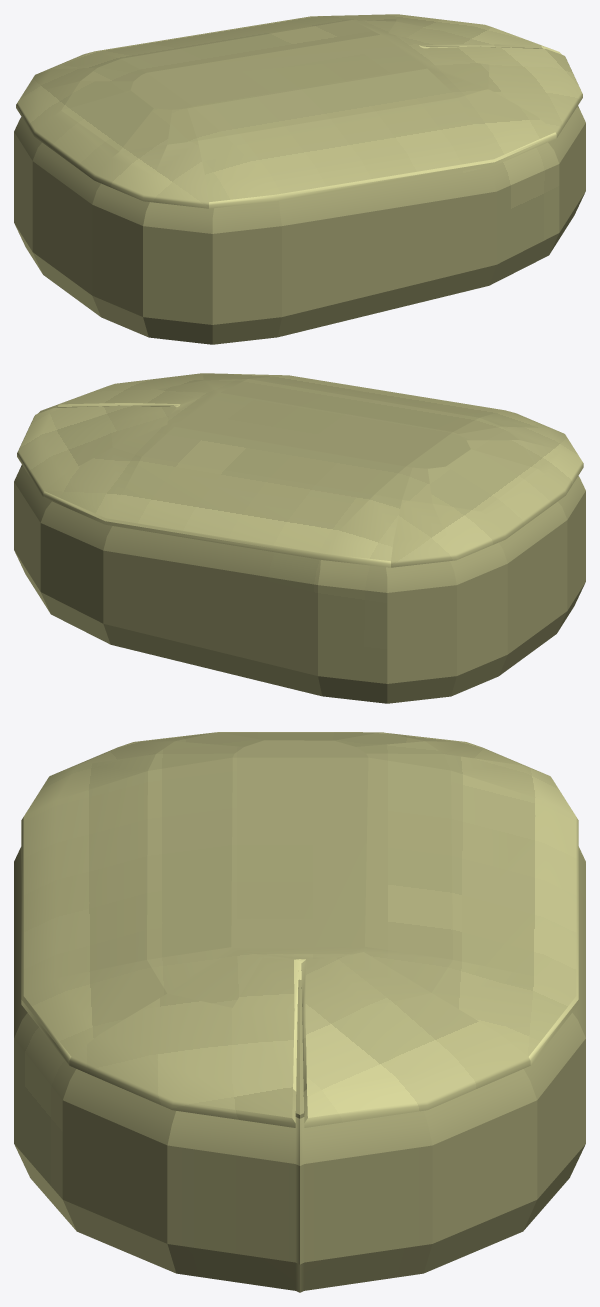
Rendered from Computer_Mouse.glb.
3 views of the same model, one above another, from view 1: azimuth 30°, elevation 25°; view 2: azimuth 150°, elevation 25°; view 3: azimuth 270°, elevation 25° (orthographic). The views are drawn at different scales.
Visible parts, largest first — view 1: mouse.001; view 2: mouse.001; view 3: mouse.001.
Part boxes in pixels (box(x1,y1,x2,y2)): mouse.001: box(14, 14, 585, 344); mouse.001: box(14, 373, 585, 703); mouse.001: box(14, 732, 585, 1292).
Size of the model in its own units: 0.2494 by 0.0904 by 0.1692.
Materials: 1 (1 with a texture image).
